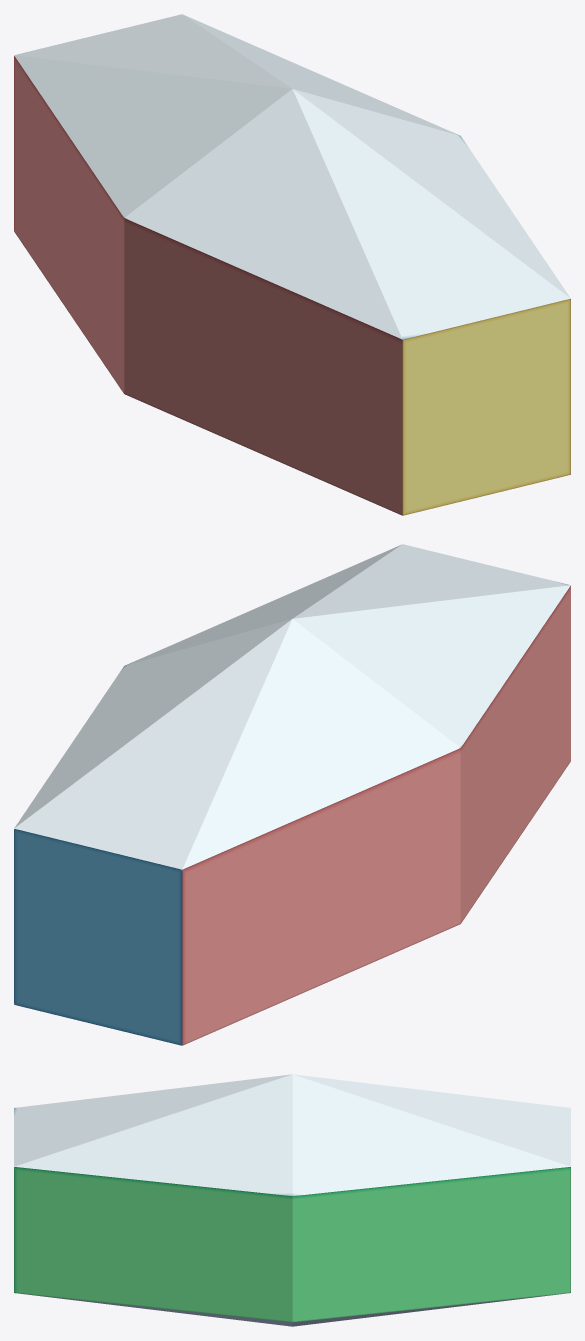
File: wind.fbx
3 renders of one model, top to bottom at view 1: azimuth 30°, elevation 25°; view 2: azimuth 150°, elevation 25°; view 3: azimuth 270°, elevation 25°, orthographic. The views are drawn at different scales.
Visible parts, largest first — view 1: sphere; view 2: sphere; view 3: sphere.
Boxes of the visible parts, box(x1,y1,x2,y2) form: sphere: box(14, 14, 570, 515); sphere: box(14, 544, 570, 1045); sphere: box(14, 1074, 570, 1326).
Bounding box in the file's own units: 18.75 × 18.75 × 37.5.
Materials: 1 (1 with a texture image).
